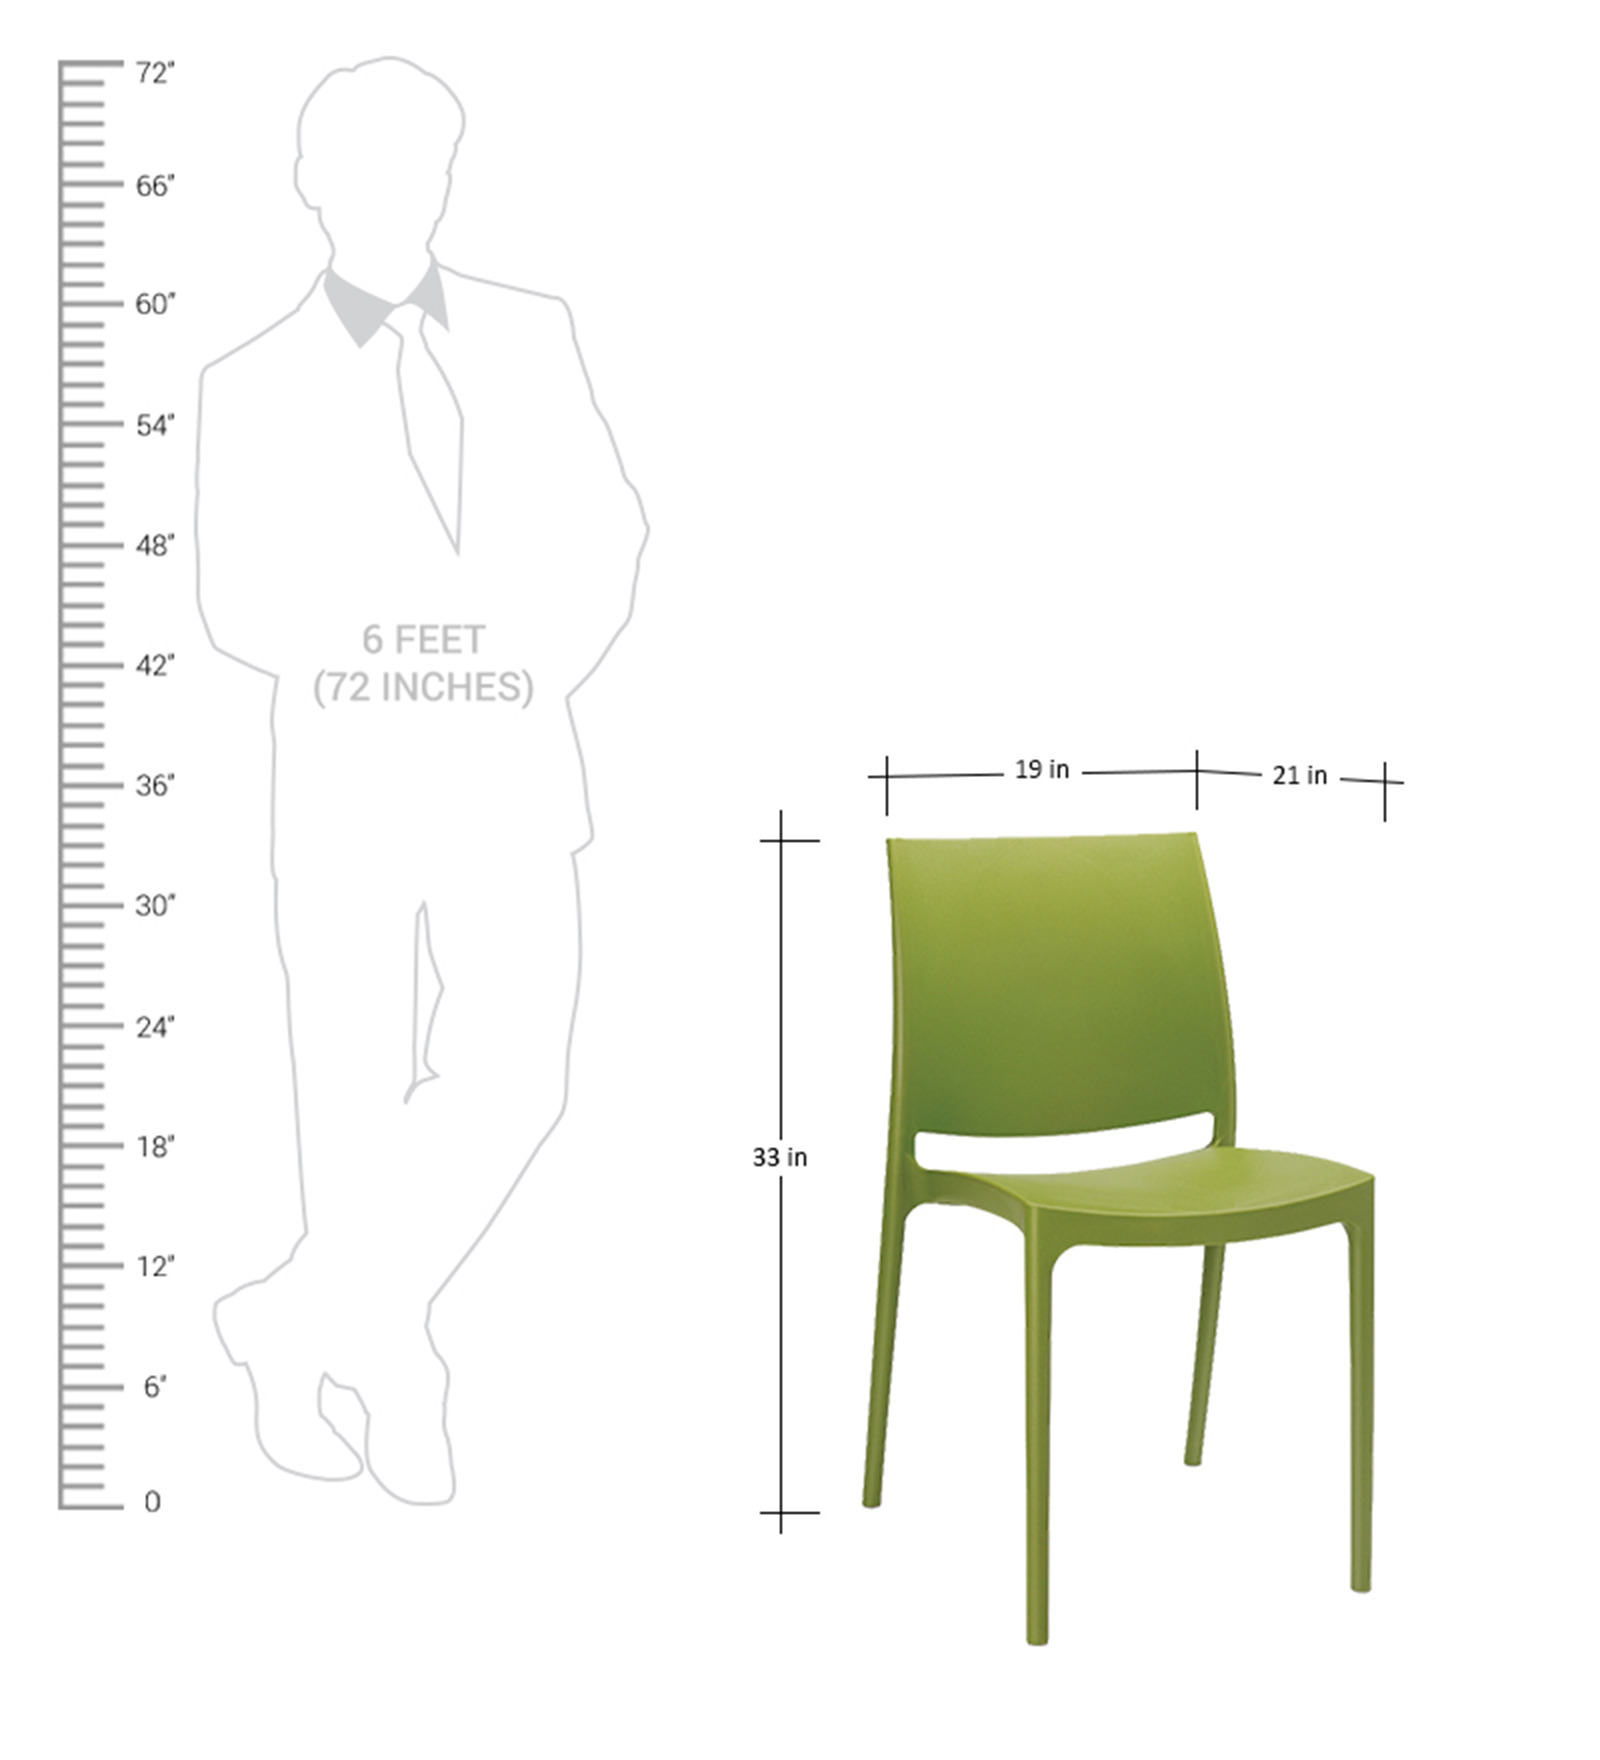Novella Chair in Green Colour by Nilkamal: (857, 826, 1389, 1645)
